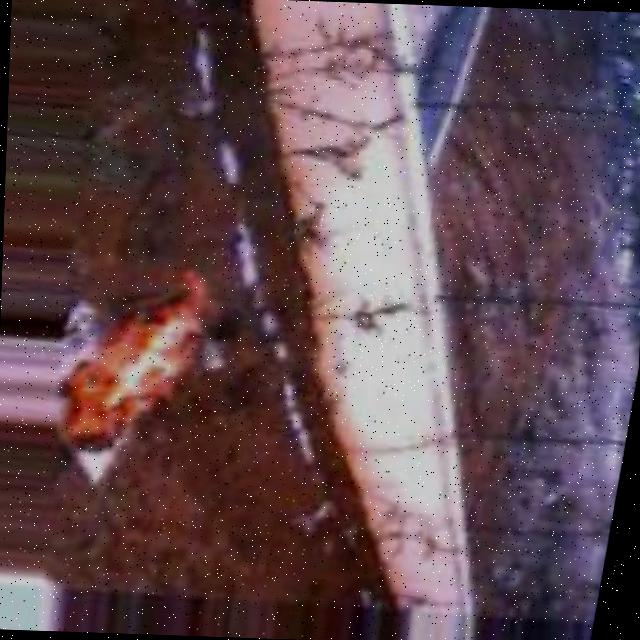fire: (49, 258, 247, 482)
